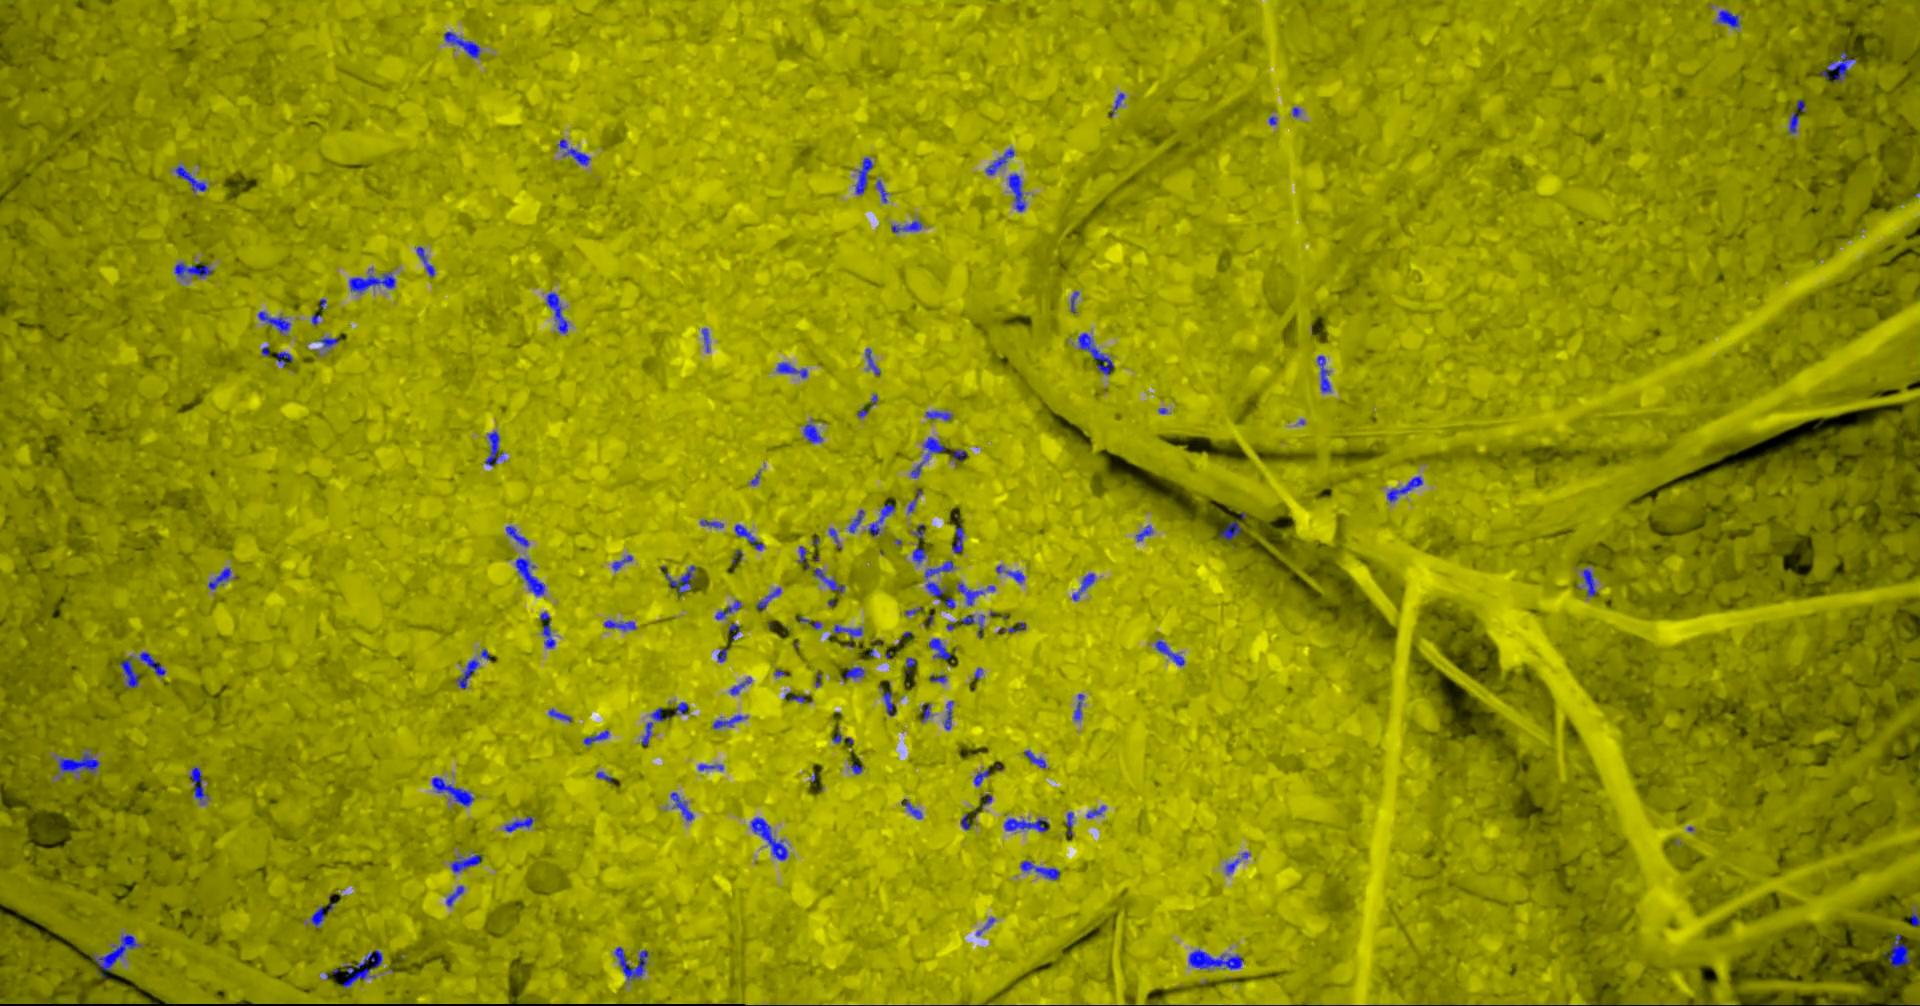ant: (91, 934, 138, 977), (910, 437, 950, 478), (750, 817, 787, 860), (342, 949, 382, 987), (1077, 332, 1114, 373), (430, 776, 474, 807), (615, 946, 648, 981), (1818, 51, 1855, 81), (1189, 949, 1243, 969), (641, 708, 669, 746), (516, 558, 543, 594), (443, 30, 480, 57), (348, 272, 395, 292), (1385, 476, 1422, 502), (1882, 934, 1910, 967), (662, 565, 696, 592), (557, 138, 590, 165), (546, 292, 568, 333), (869, 503, 894, 536), (175, 165, 206, 191), (58, 753, 99, 772), (813, 568, 844, 592), (1020, 860, 1059, 879), (734, 525, 763, 550), (1154, 640, 1183, 666), (985, 149, 1013, 174), (189, 766, 208, 801), (257, 311, 290, 332), (456, 658, 477, 688), (855, 158, 872, 194), (484, 431, 503, 465), (118, 655, 138, 687), (310, 902, 335, 927), (1070, 573, 1095, 600), (833, 624, 861, 647), (670, 793, 693, 821), (1008, 173, 1025, 211), (450, 854, 483, 873), (1787, 99, 1804, 133), (138, 652, 165, 674), (174, 262, 212, 277), (957, 582, 983, 605), (1003, 818, 1048, 831), (538, 611, 554, 648), (1316, 354, 1330, 392), (207, 567, 230, 589), (756, 587, 780, 608), (417, 246, 434, 276), (505, 525, 528, 546), (776, 362, 808, 377), (715, 600, 740, 619), (928, 638, 950, 659), (924, 560, 952, 577), (996, 565, 1023, 582), (712, 714, 745, 728), (504, 815, 532, 831), (1219, 520, 1241, 539), (865, 348, 880, 375), (1582, 568, 1596, 596), (1717, 9, 1738, 27), (729, 676, 750, 694), (1023, 749, 1045, 767), (582, 730, 608, 744), (891, 220, 921, 232), (803, 423, 822, 442), (603, 619, 635, 630), (924, 582, 945, 600), (907, 489, 922, 512), (848, 509, 863, 532), (951, 522, 963, 553), (446, 885, 463, 904), (612, 554, 632, 570), (904, 798, 921, 818), (841, 666, 863, 680), (549, 708, 571, 721), (973, 767, 989, 785), (883, 690, 894, 715), (997, 622, 1025, 633), (1135, 525, 1152, 541), (924, 410, 951, 420), (1073, 694, 1083, 720), (875, 179, 886, 202), (797, 546, 809, 569), (943, 700, 952, 729), (276, 351, 292, 366), (783, 691, 804, 702), (921, 702, 932, 721), (1086, 805, 1105, 817), (317, 337, 338, 347), (728, 622, 739, 640), (673, 701, 687, 715), (912, 547, 924, 563), (701, 326, 709, 351), (698, 520, 723, 527), (1065, 810, 1073, 835), (905, 657, 916, 673), (697, 763, 723, 770), (952, 448, 966, 459), (1910, 912, 1919, 925)
